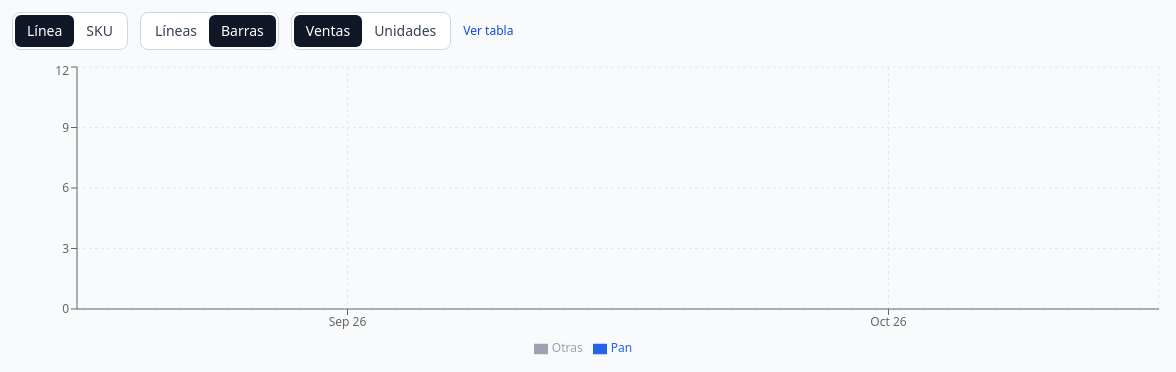
Test: EvolutionPanel › Unidades switches the table to units
Click the button "Ver tabla".
click(488, 31)  # box [463,23,513,39]
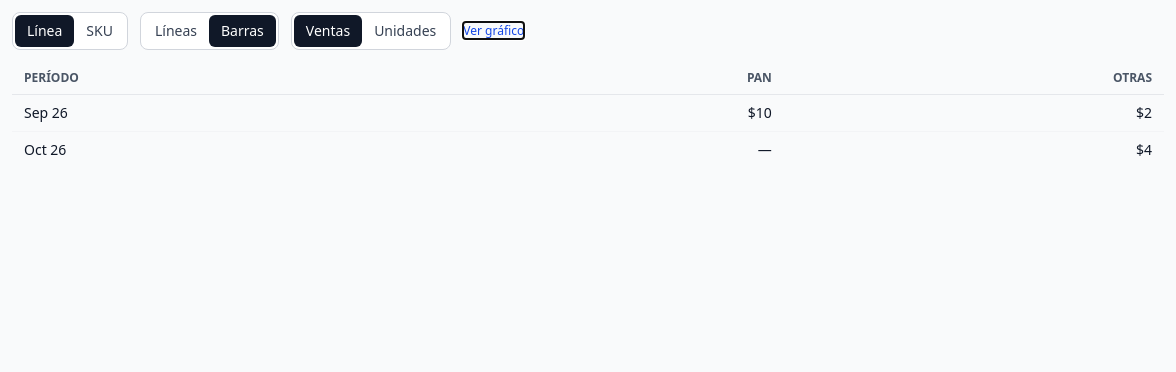
Click the button "Unidades".
click(405, 31)  # box [362,15,448,47]
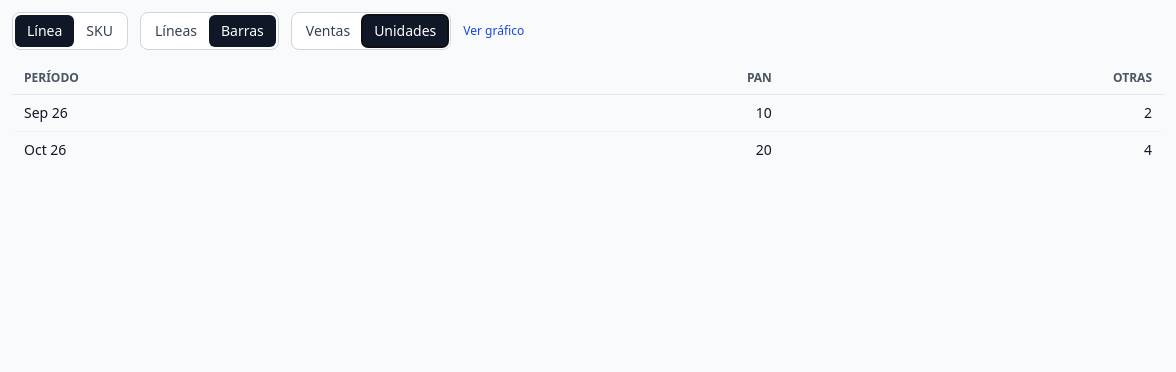
Expected: the text "20" is shown, [488,132,784,168]
Expected: the text "—" is gone
